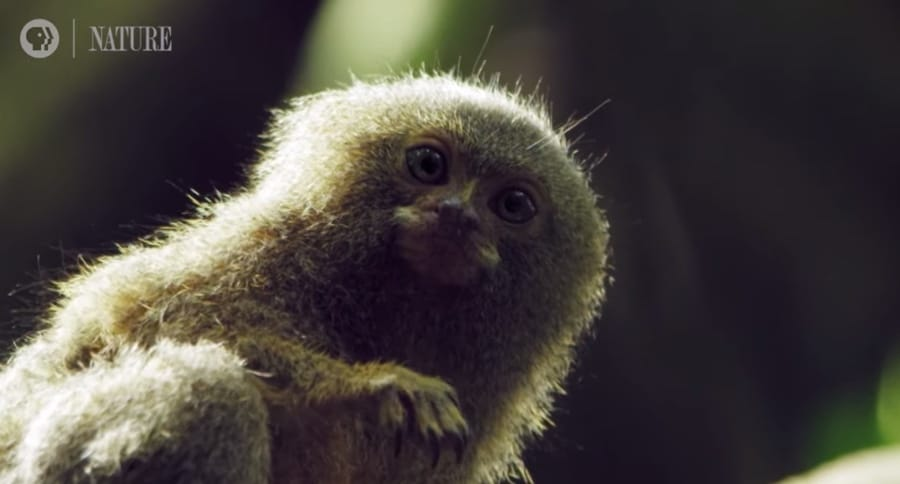PygmyMarmoset: (59, 98, 596, 442)
